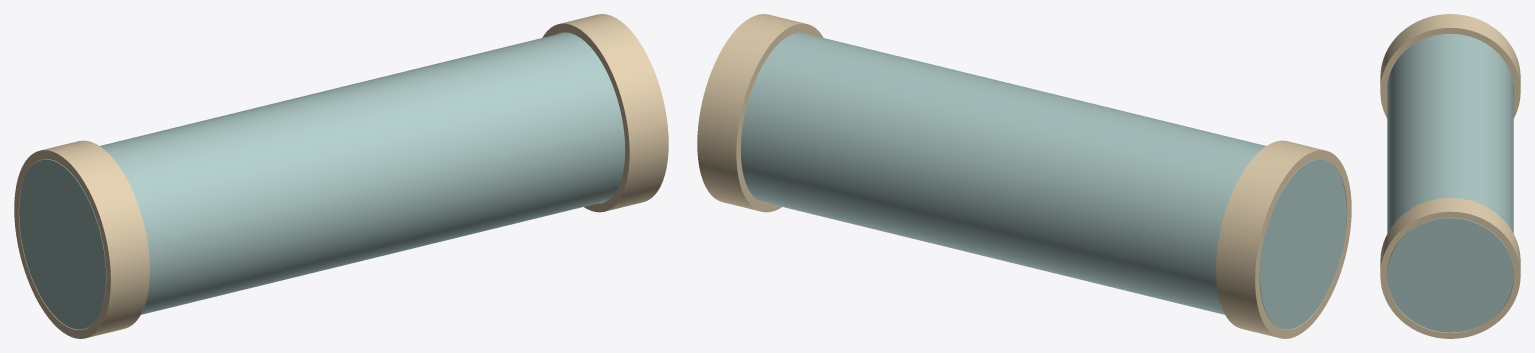
Rendered from Pit_Tube_Run_2m.glb.
3 renders of one model, left to right at view 1: azimuth 30°, elevation 25°; view 2: azimuth 150°, elevation 25°; view 3: azimuth 270°, elevation 25°, orthographic. The views are drawn at different scales.
Parts seen in each view (by area): view 1: Pit_Tube_Run_2m, Pit_Tube_Run_2m_Sleeves; view 2: Pit_Tube_Run_2m, Pit_Tube_Run_2m_Sleeves; view 3: Pit_Tube_Run_2m, Pit_Tube_Run_2m_Sleeves.
Part boxes in pixels (bbox=[...]): Pit_Tube_Run_2m: bbox=[19, 32, 625, 329]; Pit_Tube_Run_2m_Sleeves: bbox=[14, 14, 668, 338]; Pit_Tube_Run_2m: bbox=[740, 32, 1346, 329]; Pit_Tube_Run_2m_Sleeves: bbox=[697, 14, 1351, 338]; Pit_Tube_Run_2m: bbox=[1387, 33, 1513, 332]; Pit_Tube_Run_2m_Sleeves: bbox=[1380, 14, 1520, 338].
Bounding box in the file's own units: 2 × 0.6 × 0.6.
